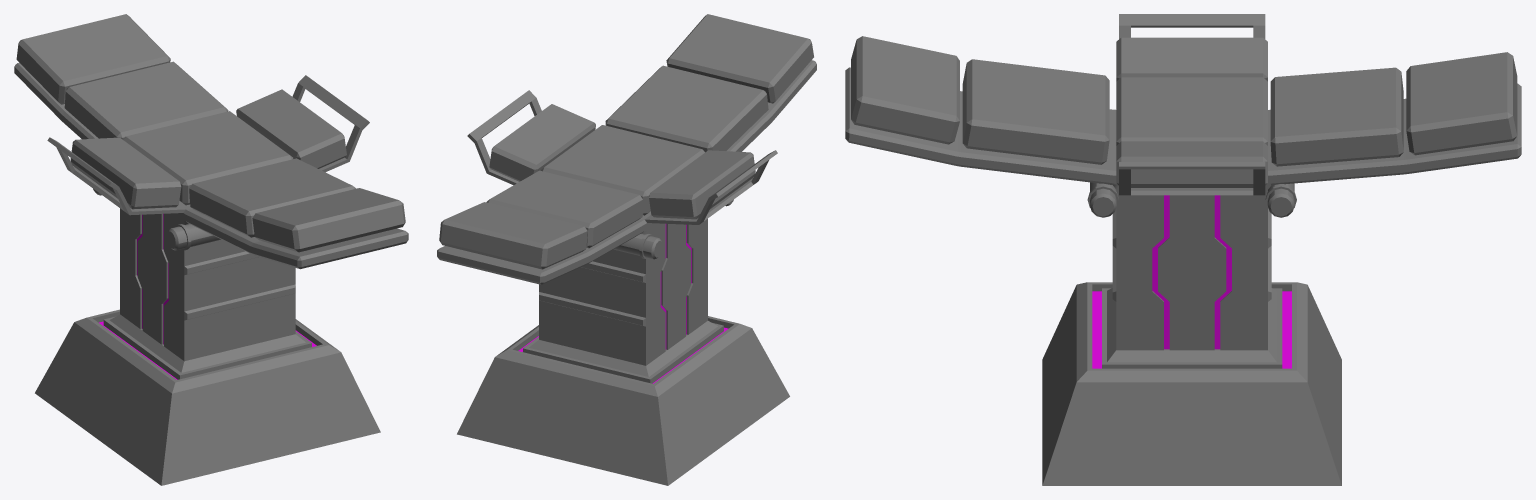
File: bed.fbx
3 views of the same model, side by side, from view 1: azimuth 30°, elevation 25°; view 2: azimuth 150°, elevation 25°; view 3: azimuth 270°, elevation 25° (orthographic). The views are drawn at different scales.
Parts seen in each view (by area): view 1: polySurface18; view 2: polySurface18; view 3: polySurface18.
Part boxes in pixels (x1,y1,x2,y2): polySurface18: (14, 14, 408, 485); polySurface18: (437, 14, 816, 485); polySurface18: (845, 14, 1521, 485).
Bounding box in the file's own units: 1.81 × 2 × 3.44.
